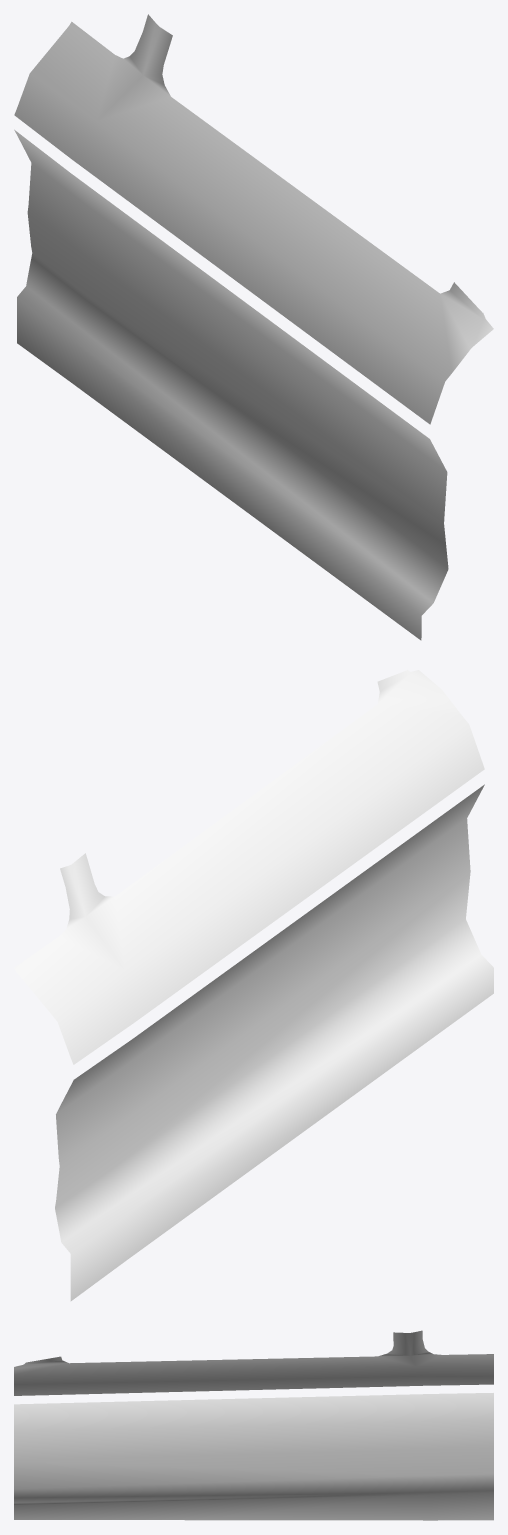
The picture shows the model from 3 angles, top to bottom: view 1: azimuth 30°, elevation 25°; view 2: azimuth 150°, elevation 25°; view 3: azimuth 270°, elevation 25°; orthographic projection. The views are drawn at different scales.
Bounding box in the file's own units: 0.1101 × 0.5075 × 1.05.
Materials: 1 (1 with a texture image).
